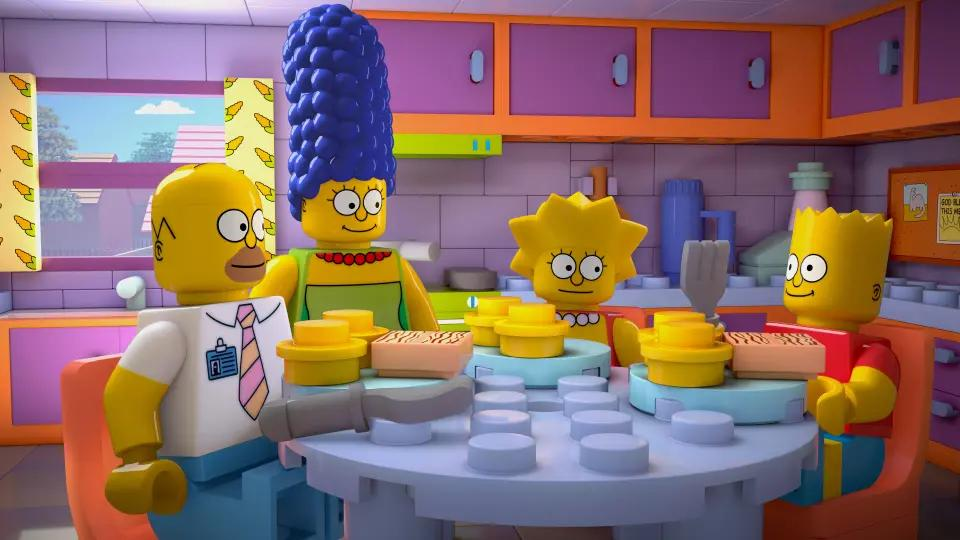Bart: (764, 195, 929, 440)
Homer: (106, 145, 323, 540)
Lisa: (489, 179, 669, 364)
Marge: (253, 6, 451, 350)
